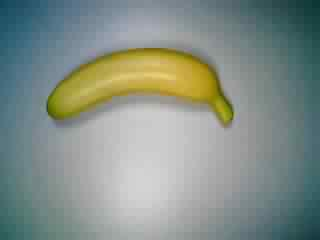banana: (39, 42, 236, 133)
